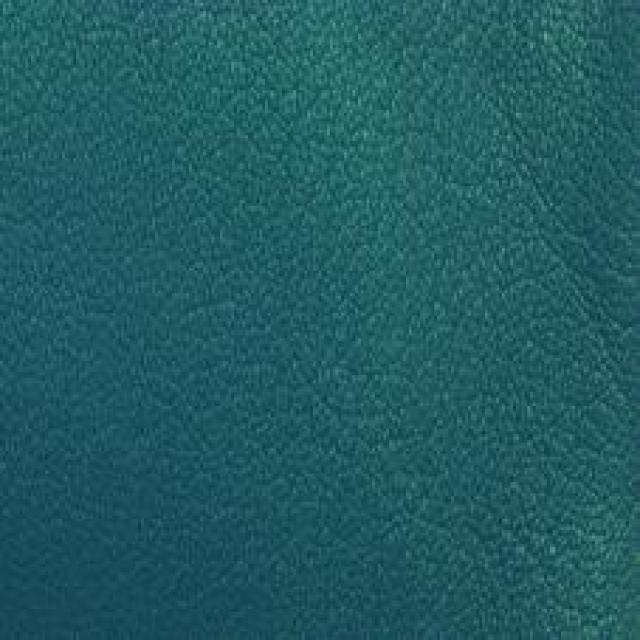Growth Marks: (496, 154, 617, 350)
